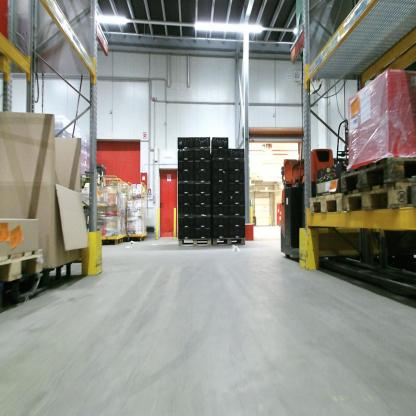pallet: (334, 150, 416, 191), (345, 178, 415, 224), (0, 243, 44, 290), (306, 194, 345, 219), (175, 233, 212, 253), (210, 233, 247, 251)
pallet_truck: (280, 141, 341, 270)
small_load_carrier: (83, 158, 108, 184), (176, 135, 196, 160), (177, 224, 193, 241), (211, 202, 231, 215), (228, 148, 246, 162), (193, 227, 211, 241), (177, 179, 195, 193), (212, 225, 231, 238), (211, 157, 230, 170), (194, 148, 211, 162), (211, 178, 229, 191), (212, 135, 230, 148), (194, 171, 211, 184), (229, 206, 247, 218), (228, 158, 245, 170), (229, 182, 246, 194), (194, 182, 211, 194), (194, 215, 211, 227), (229, 170, 245, 182), (229, 194, 245, 206), (195, 136, 211, 148), (212, 215, 231, 225), (230, 228, 247, 239), (212, 191, 229, 202), (194, 204, 211, 215), (177, 213, 194, 224), (229, 218, 247, 228), (178, 160, 196, 170), (195, 160, 211, 171), (211, 170, 230, 179), (211, 148, 230, 157), (177, 170, 196, 179), (194, 194, 211, 204), (178, 193, 195, 203), (178, 203, 194, 213)
